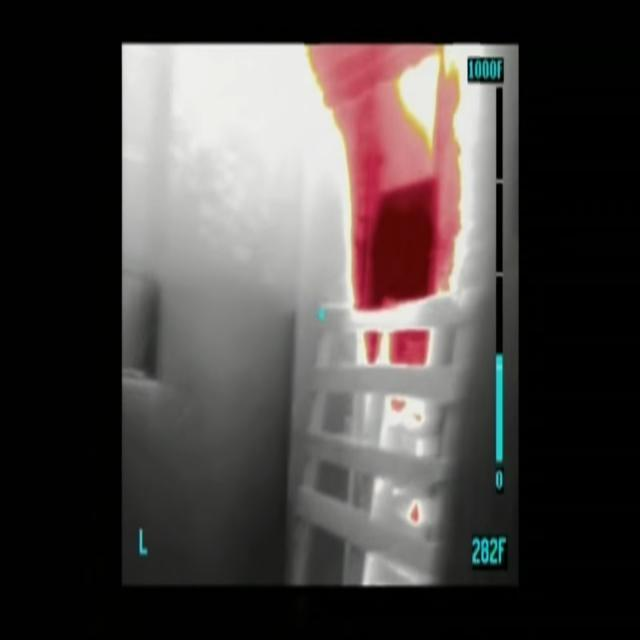fire: (306, 47, 485, 307)
